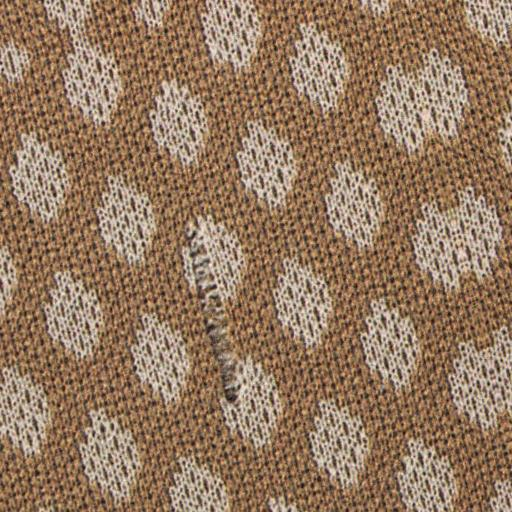slub: (170, 209, 256, 421)
